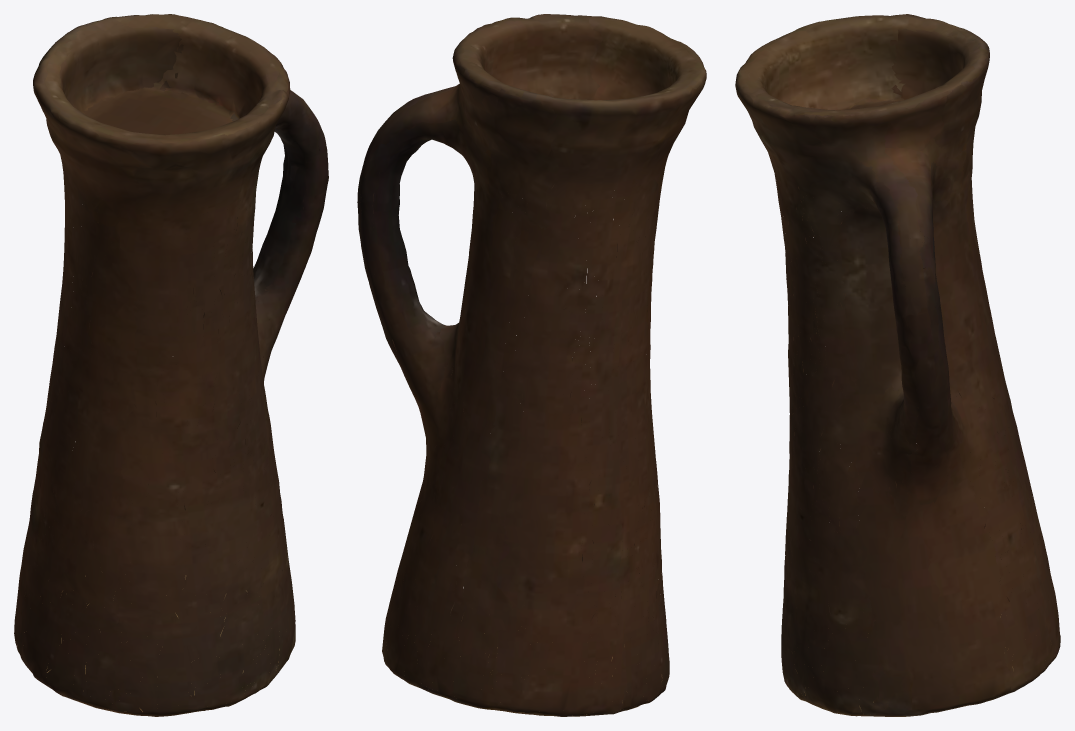
File: hm-pottery-mug.glb
The picture shows the model from 3 angles, left to right: view 1: azimuth 30°, elevation 25°; view 2: azimuth 150°, elevation 25°; view 3: azimuth 270°, elevation 25°; orthographic projection.
Parts seen in each view (by area): view 1: Object_2, Object_3; view 2: Object_2, Object_3; view 3: Object_2, Object_3.
Boxes of the visible parts, box(x1,y1,x2,y2) form: Object_2: box(14, 14, 328, 715); Object_3: box(14, 110, 328, 716); Object_2: box(359, 14, 706, 716); Object_3: box(357, 121, 669, 716); Object_2: box(735, 14, 1060, 715); Object_3: box(774, 151, 1060, 716).
Size of the model in its own units: 0.0961 by 0.19 by 0.0907.
1 material, 1 textured.
